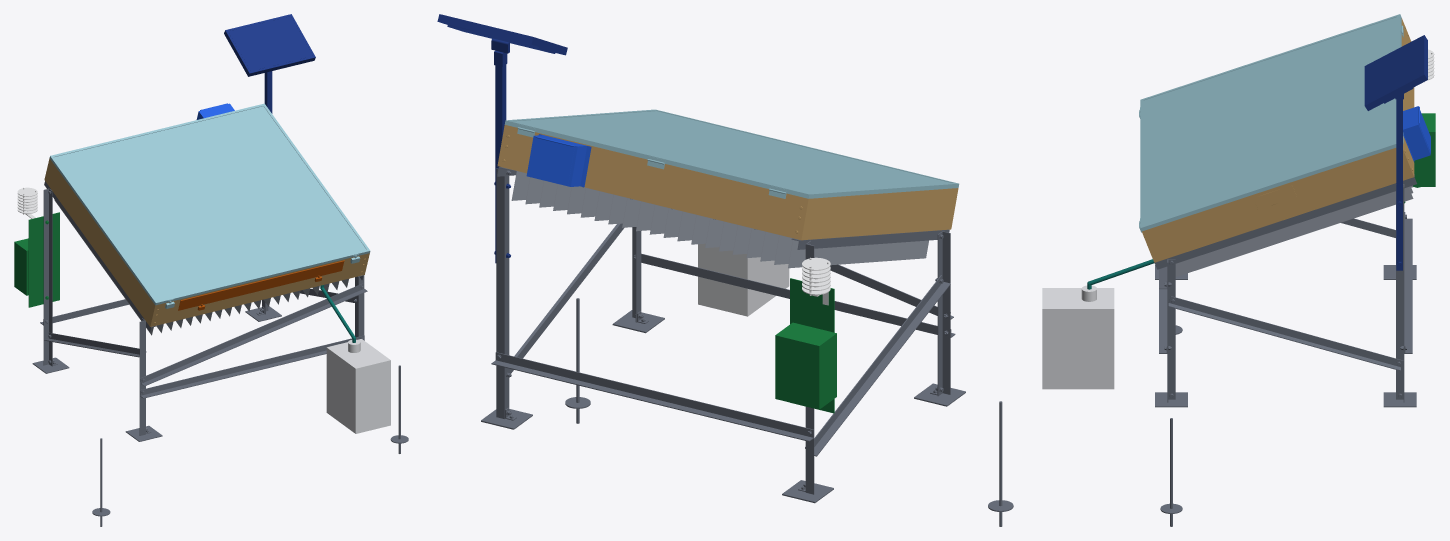
The picture shows the model from 3 angles, left to right: view 1: azimuth 30°, elevation 25°; view 2: azimuth 150°, elevation 25°; view 3: azimuth 270°, elevation 25°; orthographic projection. The views are drawn at different scales.
Visible parts, largest first — view 1: Glazing lid, twin-wall polycarbonate, Stand, galvanized steel angle, Insulated box walls, Collection bottle, 10 L, PV panel, 10 W, on pole, Electronics box (charger, LiFePO4, logger), Inlet flap, south wall, Condenser plate with fins, Air temperature and RH sensor shield; view 2: Stand, galvanized steel angle, Glazing lid, twin-wall polycarbonate, Insulated box walls, Condenser plate with fins, Electronics box (charger, LiFePO4, logger), Collection bottle, 10 L, PV panel, 10 W, on pole, Night fan, hood and outlet flap, Air temperature and RH sensor shield; view 3: Glazing lid, twin-wall polycarbonate, Stand, galvanized steel angle, Insulated box walls, Collection bottle, 10 L, PV panel, 10 W, on pole, Condenser plate with fins, Night fan, hood and outlet flap, Electronics box (charger, LiFePO4, logger).
Boxes of the visible parts, box(x1,y1,x2,y2) form: Glazing lid, twin-wall polycarbonate: box(49, 103, 370, 308); Stand, galvanized steel angle: box(32, 181, 408, 526); Insulated box walls: box(44, 158, 369, 326); Collection bottle, 10 L: box(326, 339, 390, 433); PV panel, 10 W, on pole: box(224, 14, 315, 113); Electronics box (charger, LiFePO4, logger): box(14, 212, 59, 307); Inlet flap, south wall: box(178, 260, 344, 310); Condenser plate with fins: box(54, 199, 348, 335); Air temperature and RH sensor shield: box(17, 187, 37, 218); Stand, galvanized steel angle: box(481, 167, 1013, 526); Glazing lid, twin-wall polycarbonate: box(504, 109, 959, 198); Insulated box walls: box(497, 125, 958, 240); Condenser plate with fins: box(502, 167, 928, 268); Electronics box (charger, LiFePO4, logger): box(775, 278, 836, 413); Collection bottle, 10 L: box(698, 243, 789, 316); PV panel, 10 W, on pole: box(437, 14, 567, 263); Night fan, hood and outlet flap: box(526, 134, 591, 187); Air temperature and RH sensor shield: box(802, 257, 830, 305); Glazing lid, twin-wall polycarbonate: box(1139, 14, 1403, 232); Stand, galvanized steel angle: box(1154, 174, 1416, 526); Insulated box walls: box(1142, 18, 1414, 262); Collection bottle, 10 L: box(1042, 285, 1114, 389); PV panel, 10 W, on pole: box(1364, 35, 1427, 270); Condenser plate with fins: box(1175, 185, 1413, 276); Night fan, hood and outlet flap: box(1403, 106, 1430, 162); Electronics box (charger, LiFePO4, logger): box(1404, 113, 1435, 203).
Bounding box in the file's own units: 1.61 × 1.79 × 1.42.
